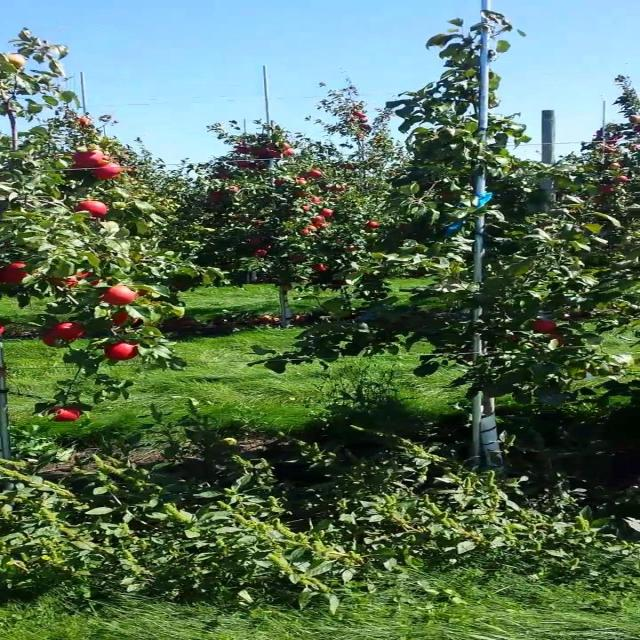apple: (106, 288, 139, 307), (106, 344, 140, 361), (77, 200, 108, 217), (92, 164, 123, 180), (56, 324, 85, 340), (6, 264, 28, 285), (56, 408, 84, 424), (77, 152, 105, 168), (113, 312, 142, 327), (532, 320, 558, 333), (6, 56, 28, 68), (42, 336, 59, 348), (56, 280, 78, 287), (77, 272, 94, 280), (554, 336, 567, 345), (65, 280, 78, 287), (511, 336, 519, 340)
